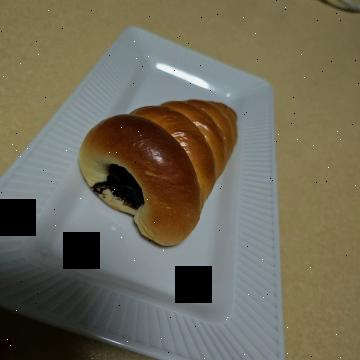cream horn: (94, 111, 282, 296)
